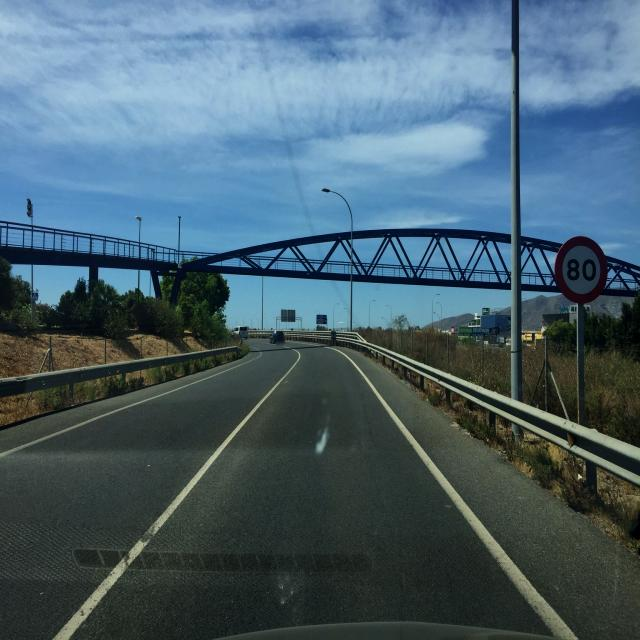car: (230, 323, 250, 342), (270, 330, 286, 344)
